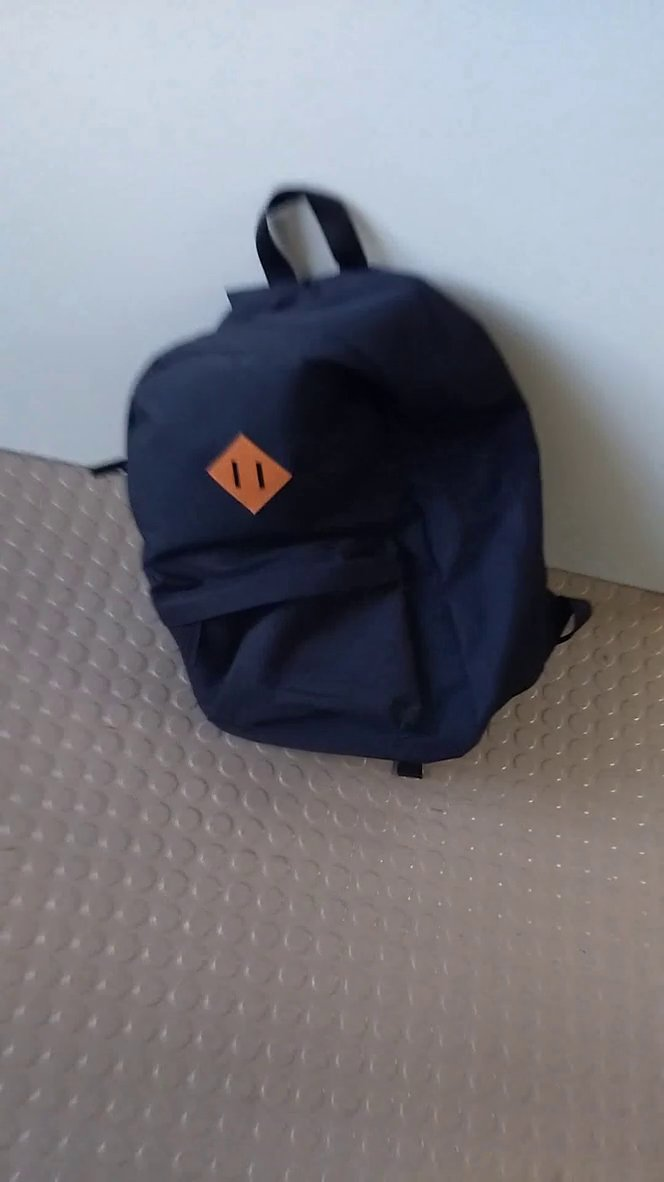bag: (68, 176, 619, 791)
